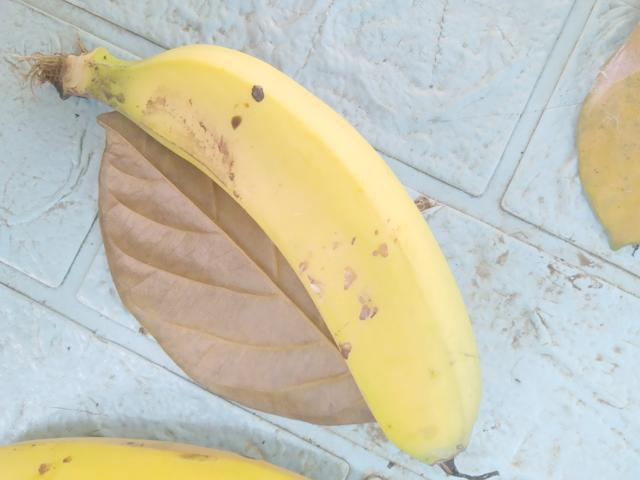ripe: (104, 31, 520, 479)
